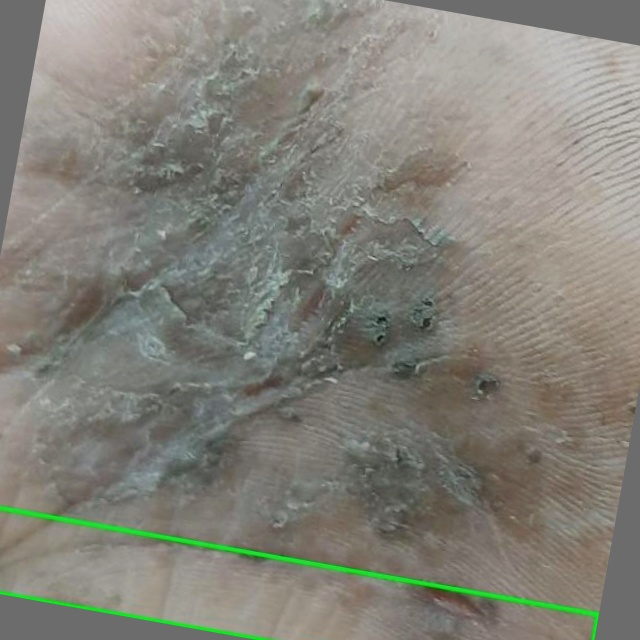Eczema: (0, 508, 598, 639)
